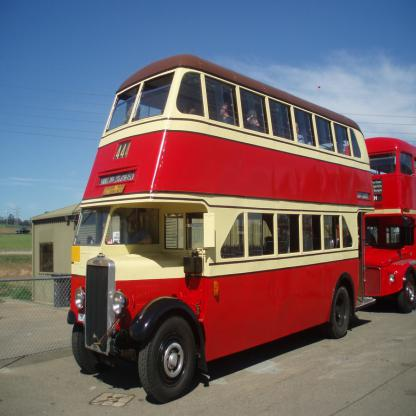Bus: (67, 54, 376, 404), (344, 136, 415, 314)
